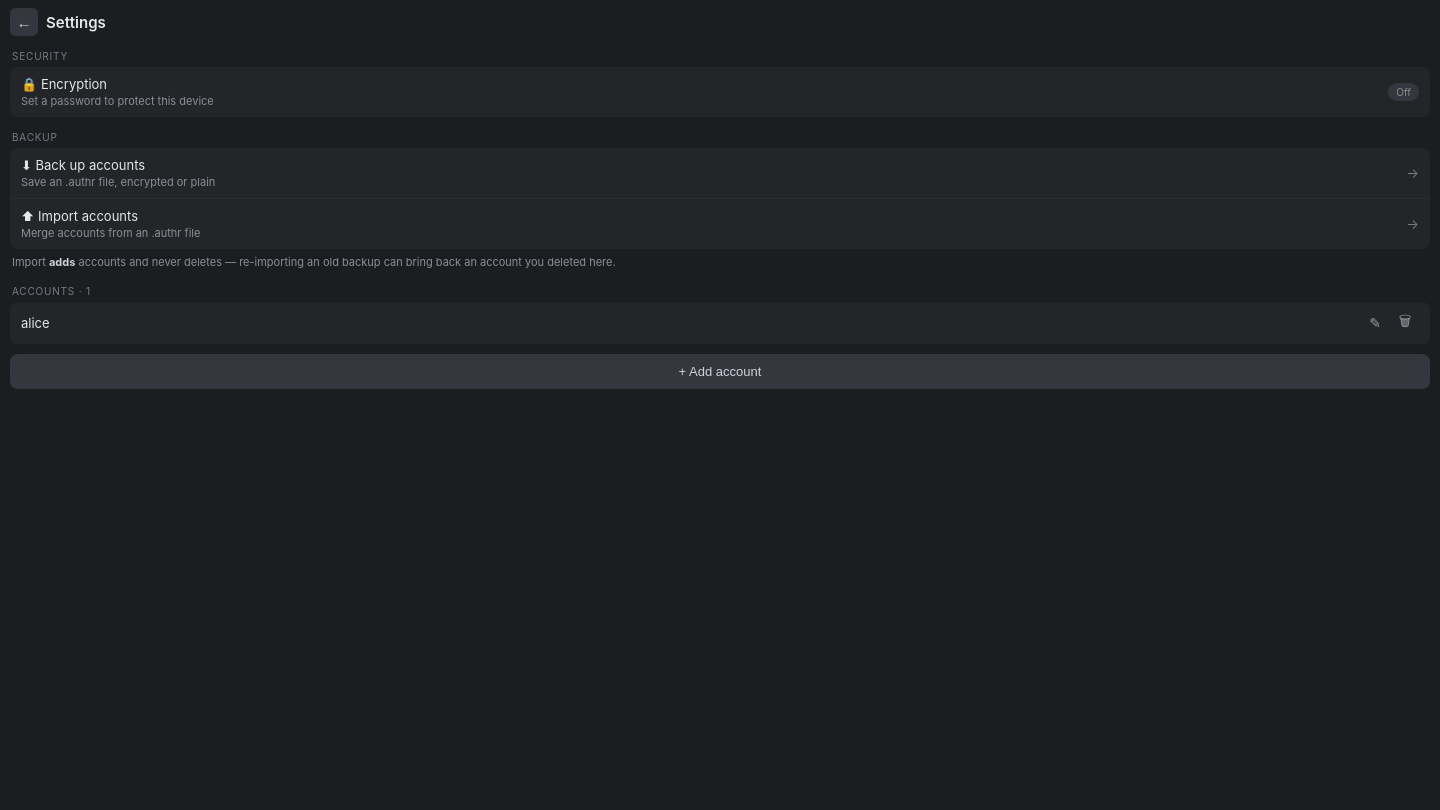
Test: Import accounts (D11) › reports 'Nothing new' when the import only skips
This screenshot has width=1440, height=810.
Expected: the text "alice" is shown, [21, 315, 50, 331]
Click the button "⬆ Import accounts Merge accounts from an .authr file →" at (80, 216), box [10, 198, 1430, 249]
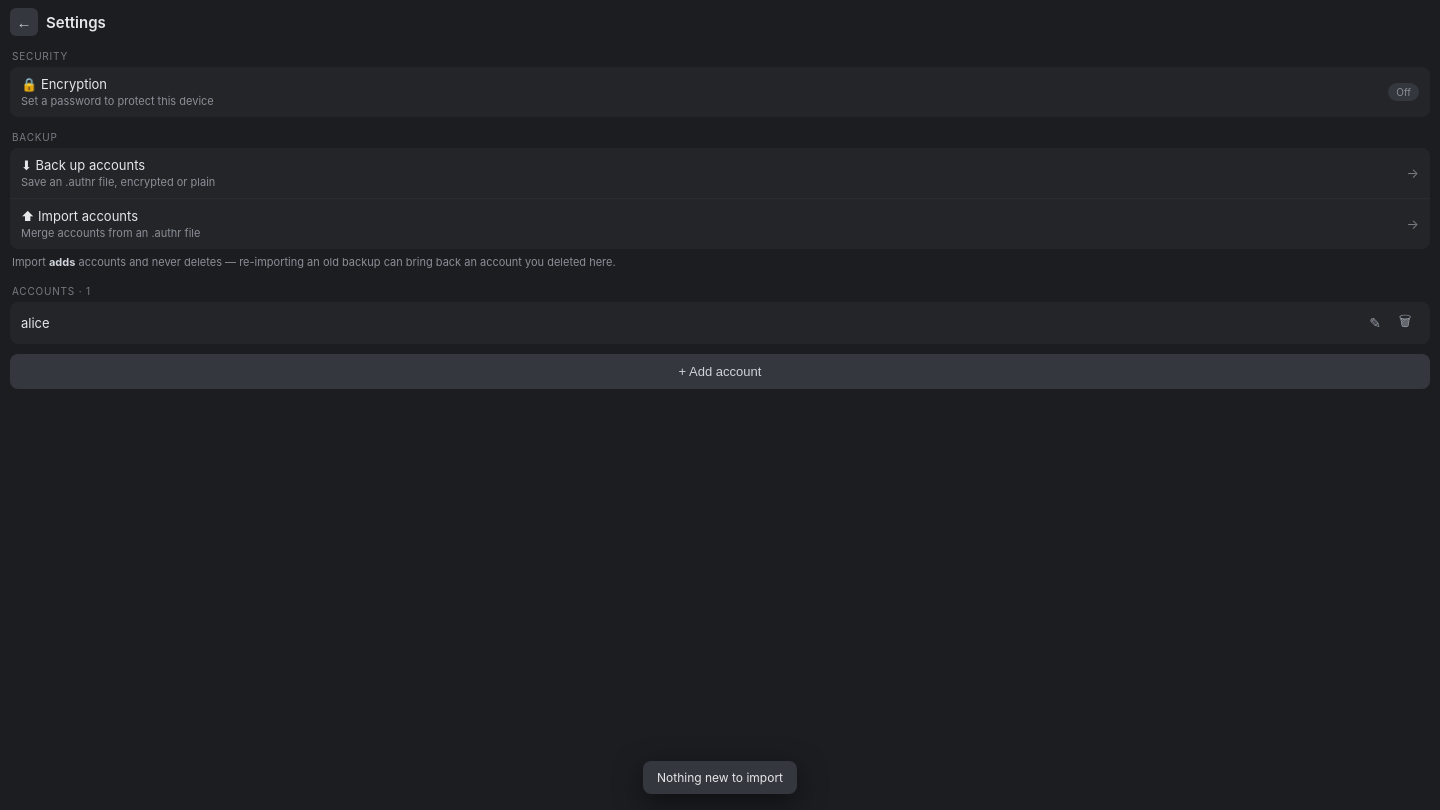
Now the message reads "Nothing new to import", box [657, 770, 783, 785]
